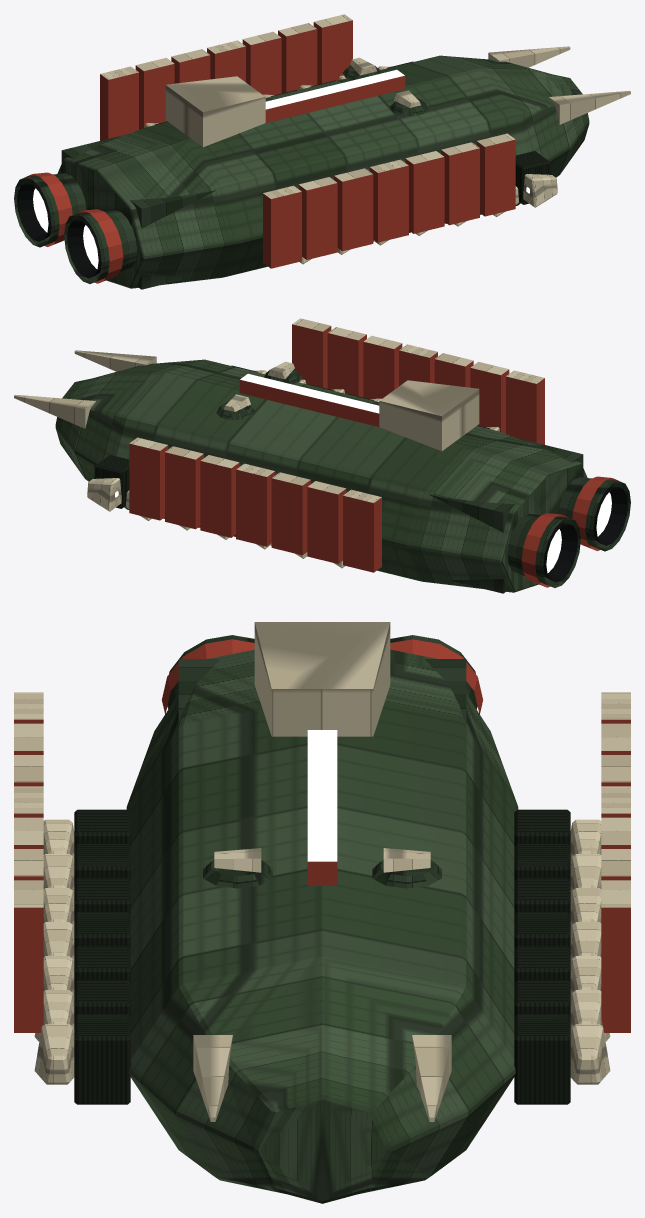
The model's file is troop_transport.glb.
The picture shows the model from 3 angles, top to bottom: view 1: azimuth 30°, elevation 25°; view 2: azimuth 150°, elevation 25°; view 3: azimuth 270°, elevation 25°; orthographic projection. The views are drawn at different scales.
Parts seen in each view (by area): view 1: hull_body, engine_block, sensor_tower, shield_pylons, weapon_turrets; view 2: hull_body, engine_block, sensor_tower, shield_pylons, weapon_turrets; view 3: hull_body, sensor_tower, engine_block, shield_pylons, weapon_turrets.
Part boxes in pixels (box(x1,y1,x2,y2)): hull_body: box(57, 14, 630, 288); engine_block: box(14, 134, 216, 289); sensor_tower: box(165, 76, 265, 147); shield_pylons: box(265, 69, 405, 122); weapon_turrets: box(342, 57, 428, 116); hull_body: box(14, 318, 587, 592); engine_block: box(428, 438, 630, 593); sensor_tower: box(379, 380, 479, 451); shield_pylons: box(239, 373, 379, 426); weapon_turrets: box(216, 361, 302, 420); hull_body: box(14, 649, 630, 1203); sensor_tower: box(254, 622, 390, 736); engine_block: box(162, 635, 482, 724); shield_pylons: box(307, 730, 337, 885); weapon_turrets: box(203, 848, 441, 888).
Bounding box in the file's own units: 52 × 15.23 × 28.42.
Materials: 1 (1 with a texture image).
